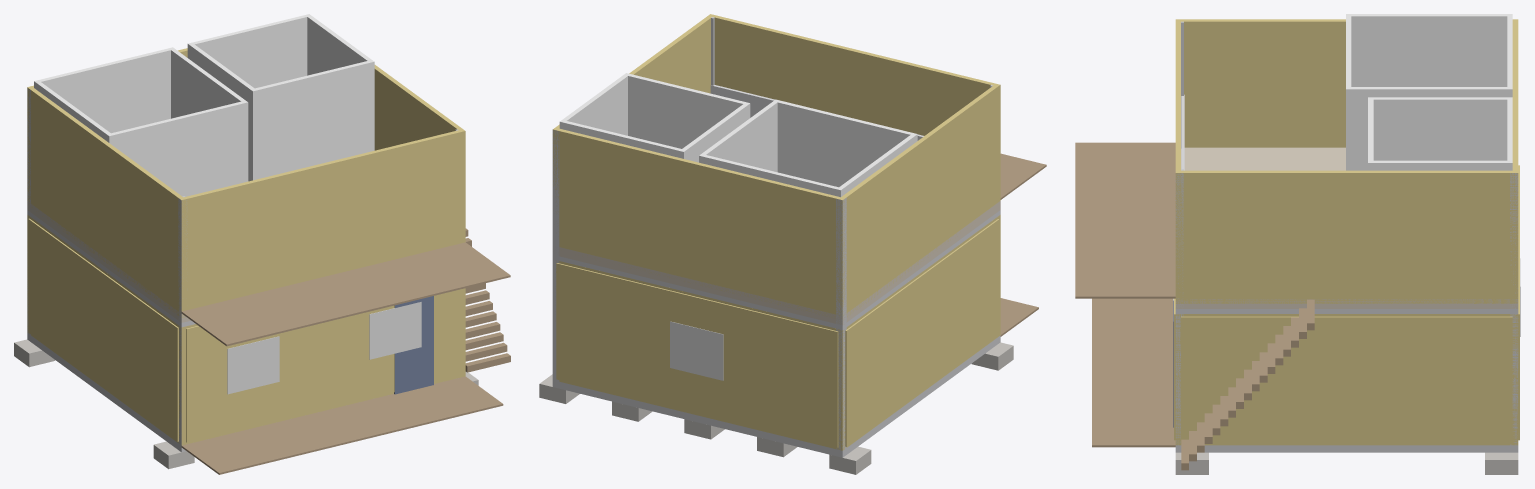
Rendered from Duplex-20-Base-DesertYellow-LOD0.glb.
3 views of the same model, side by side, from view 1: azimuth 30°, elevation 25°; view 2: azimuth 150°, elevation 25°; view 3: azimuth 270°, elevation 25° (orthographic). The views are drawn at different scales.
Visible parts, largest first — view 1: ExteriorShellUpper, ExteriorPanelsStandard, StudyUpper, BedroomUpper, BalconyUpper, BalconyGround, WindowsStandard, StaircaseExternal, ExteriorShell, EntryDoor, FoundationBlocks, FloorUpper (+3 smaller); view 2: ExteriorShellUpper, ExteriorPanelsStandard, BedroomUpper, StudyUpper, FloorUpper, VerticalStructure, FoundationBlocks, BaseFrame, ExteriorShell, WindowsStandard, TopFrame, BalconyUpper (+2 smaller); view 3: ExteriorShellUpper, ExteriorPanelsStandard, BalconyUpper, BedroomUpper, BalconyGround, StudyUpper, FloorUpper, StaircaseExternal, ExteriorShell, BaseFrame, VerticalStructure, TopFrame (+1 smaller).
Boxes of the visible parts, x1=… form: ExteriorShellUpper: x1=27, y1=48, x2=465, y2=317; ExteriorPanelsStandard: x1=28, y1=218, x2=461, y2=442; StudyUpper: x1=187, y1=14, x2=374, y2=181; BedroomUpper: x1=34, y1=47, x2=248, y2=196; BalconyUpper: x1=181, y1=242, x2=510, y2=346; BalconyGround: x1=181, y1=376, x2=503, y2=474; WindowsStandard: x1=227, y1=302, x2=421, y2=394; StaircaseExternal: x1=465, y1=228, x2=510, y2=372; ExteriorShell: x1=27, y1=215, x2=465, y2=445; EntryDoor: x1=394, y1=296, x2=433, y2=394; FoundationBlocks: x1=14, y1=339, x2=478, y2=469; FloorUpper: x1=27, y1=201, x2=190, y2=322; ExteriorShellUpper: x1=552, y1=14, x2=1000, y2=318; ExteriorPanelsStandard: x1=556, y1=219, x2=999, y2=447; BedroomUpper: x1=699, y1=99, x2=917, y2=197; StudyUpper: x1=559, y1=73, x2=750, y2=162; FloorUpper: x1=558, y1=201, x2=1000, y2=325; VerticalStructure: x1=552, y1=17, x2=998, y2=449; FoundationBlocks: x1=539, y1=342, x2=1013, y2=474; BaseFrame: x1=552, y1=335, x2=1000, y2=457; ExteriorShell: x1=556, y1=215, x2=1000, y2=450; WindowsStandard: x1=670, y1=321, x2=723, y2=380; TopFrame: x1=555, y1=210, x2=1000, y2=329; BalconyUpper: x1=1000, y1=153, x2=1046, y2=199; ExteriorShellUpper: x1=1175, y1=19, x2=1518, y2=303; ExteriorPanelsStandard: x1=1174, y1=165, x2=1519, y2=443; BalconyUpper: x1=1075, y1=142, x2=1175, y2=298; BedroomUpper: x1=1346, y1=14, x2=1512, y2=170; BalconyGround: x1=1092, y1=298, x2=1175, y2=447; StudyUpper: x1=1368, y1=97, x2=1512, y2=170; FloorUpper: x1=1175, y1=147, x2=1518, y2=308; StaircaseExternal: x1=1181, y1=299, x2=1314, y2=470; ExteriorShell: x1=1175, y1=314, x2=1518, y2=445; BaseFrame: x1=1175, y1=445, x2=1518, y2=452; VerticalStructure: x1=1175, y1=21, x2=1518, y2=445; TopFrame: x1=1175, y1=309, x2=1518, y2=313.
Bounding box in the file's own units: 7.94 × 6 × 8.
